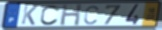4: (124, 3, 140, 26)
7: (103, 5, 122, 26)
C: (39, 4, 61, 26), (83, 5, 100, 25)
H: (59, 3, 83, 27)
K: (20, 5, 39, 26)
